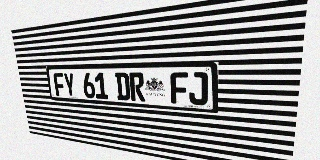1: (93, 73, 108, 99)
6: (82, 73, 96, 98)
D: (115, 72, 131, 101)
F: (170, 72, 188, 104), (53, 73, 66, 97)
J: (189, 72, 208, 106)
R: (129, 72, 145, 102)
Y: (63, 73, 76, 97)
